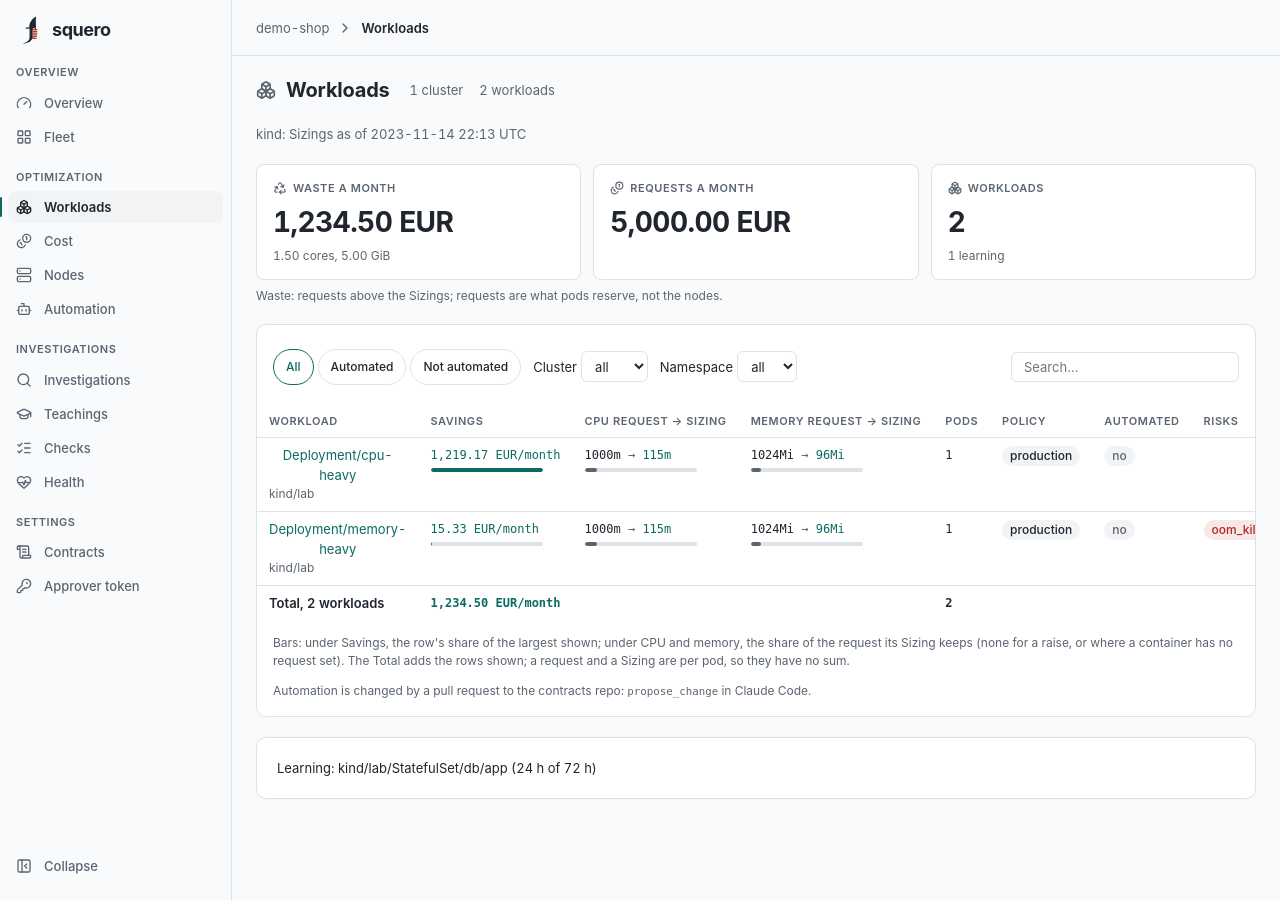
Scenario: with prices, Workloads rank by the monthly cost of their waste and show it
Expected: the button "Deployment/memory-heavy" is shown, x1=269 y1=520 x2=406 y2=559
Expected: the text "1,219.17 EUR/month" is shown, x1=418 y1=438 x2=572 y2=512
Step 1. Click the button "Deployment/cpu-heavy" → (338, 466), box x1=269 y1=446 x2=406 y2=485
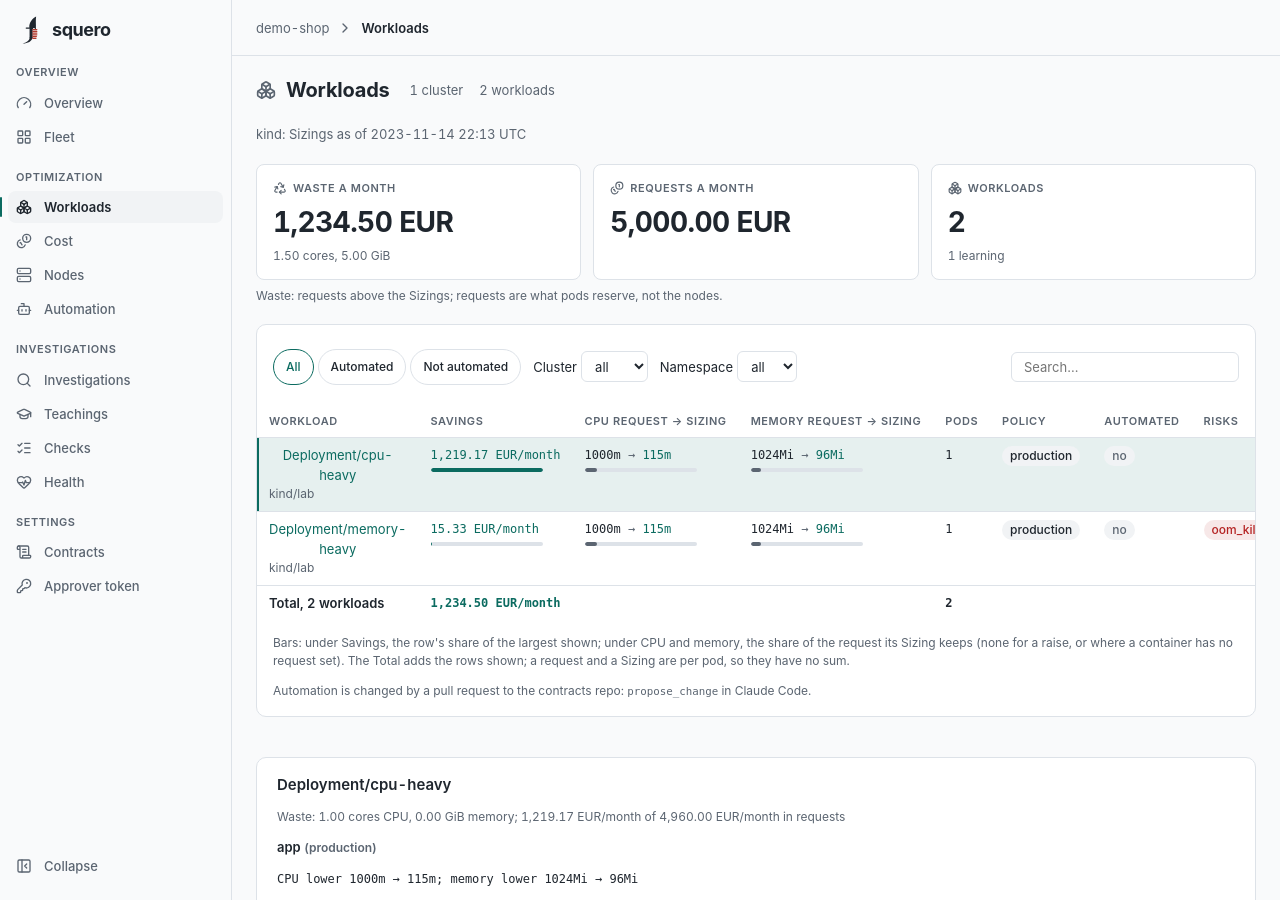
Expected: the text "of 4,960.00 EUR/month in requests" is shown, x1=514 y1=809 x2=845 y2=824
